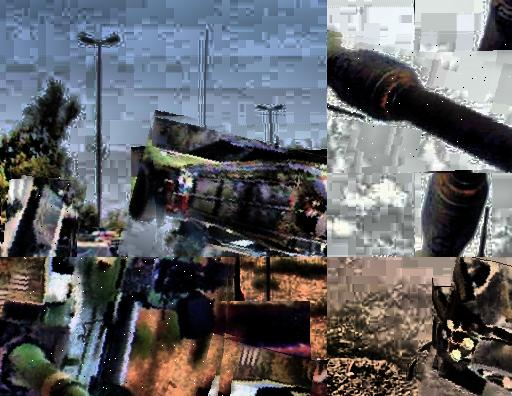tanks: (1, 258, 231, 396), (153, 116, 328, 258), (328, 37, 512, 172), (438, 258, 512, 394), (1, 258, 105, 340), (211, 338, 328, 396), (2, 175, 76, 258)
